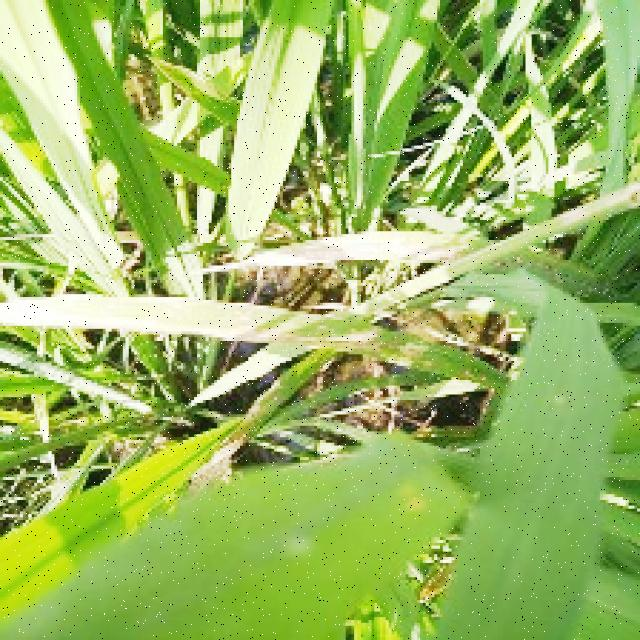health: (0, 0, 381, 467)
